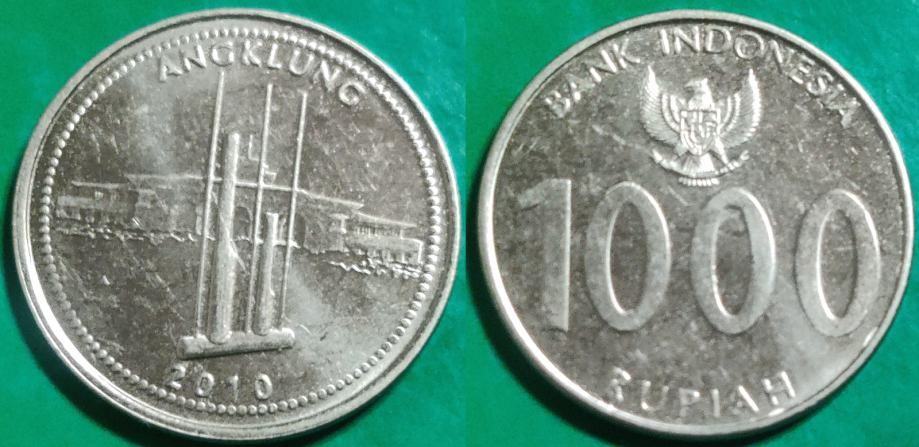coin_1000_e2010: (468, 6, 919, 444), (13, 10, 460, 447)
